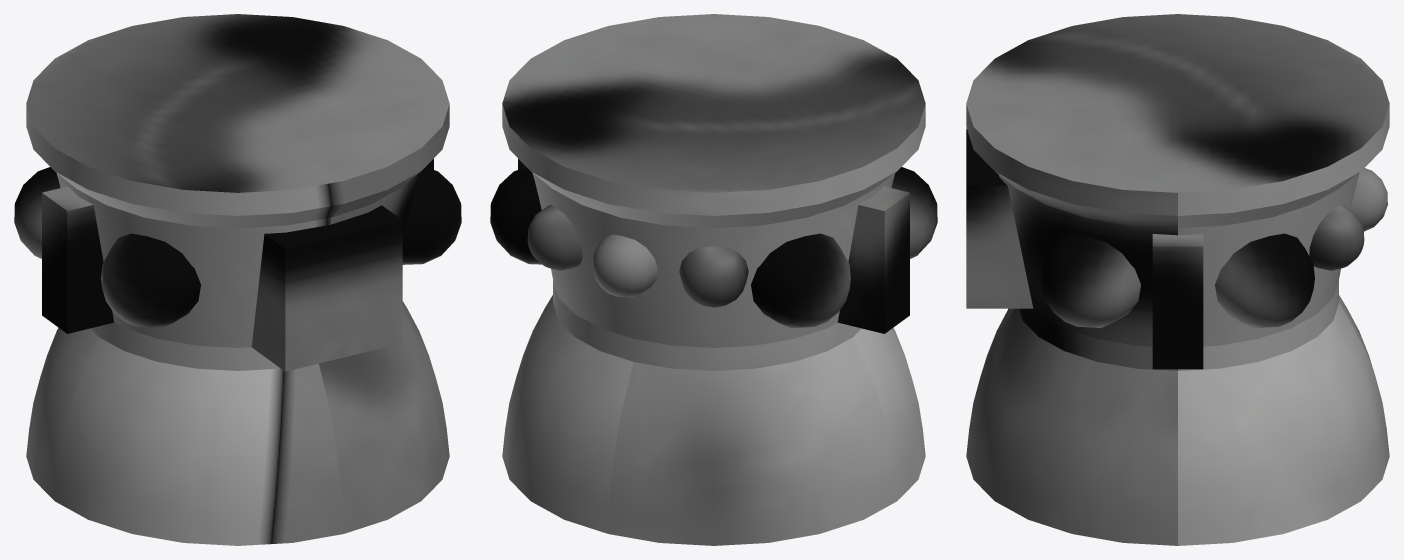
3 renders of one model, left to right at view 1: azimuth 30°, elevation 25°; view 2: azimuth 150°, elevation 25°; view 3: azimuth 270°, elevation 25°, orthographic.
Parts seen in each view (by area): view 1: sm; view 2: sm; view 3: sm.
Part boxes in pixels (left/top/right/bottom): sm: left=14, top=14, right=461, bottom=545; sm: left=490, top=14, right=937, bottom=545; sm: left=966, top=14, right=1389, bottom=545.
Size of the model in its own units: 0.625 by 0.575 by 0.625.
